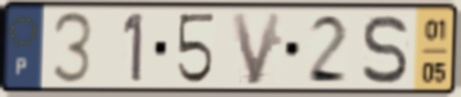1: (119, 11, 146, 86)
2: (301, 14, 353, 85)
3: (50, 9, 95, 87)
5: (174, 11, 219, 86)
S: (359, 12, 411, 87)
V: (227, 9, 286, 88)
